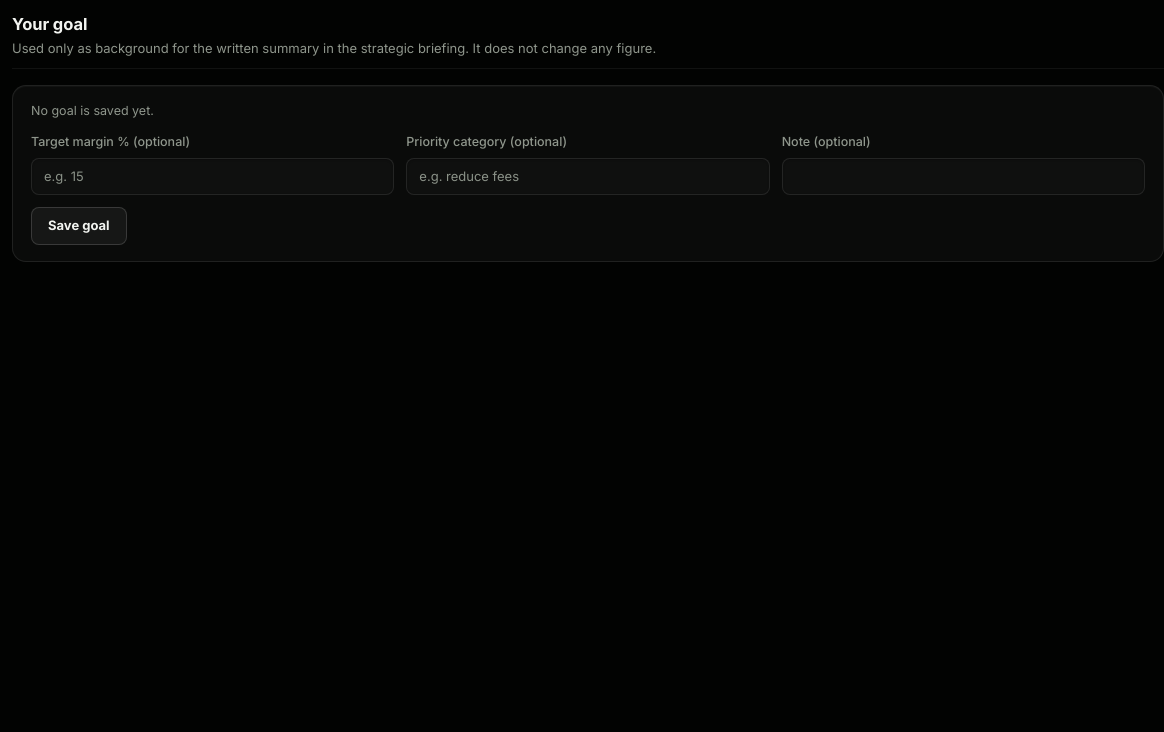
Seller goal › saves, then confirms by reading it back from the server
The width and height of the screenshot is (1164, 732).
Check: the text "No goal is saved yet." is shown, box [31,103,154,118]
Type "15.5" into the field labelled "Target margin % (optional)".
click(213, 177); type("15.5")  # box [31,158,394,195]
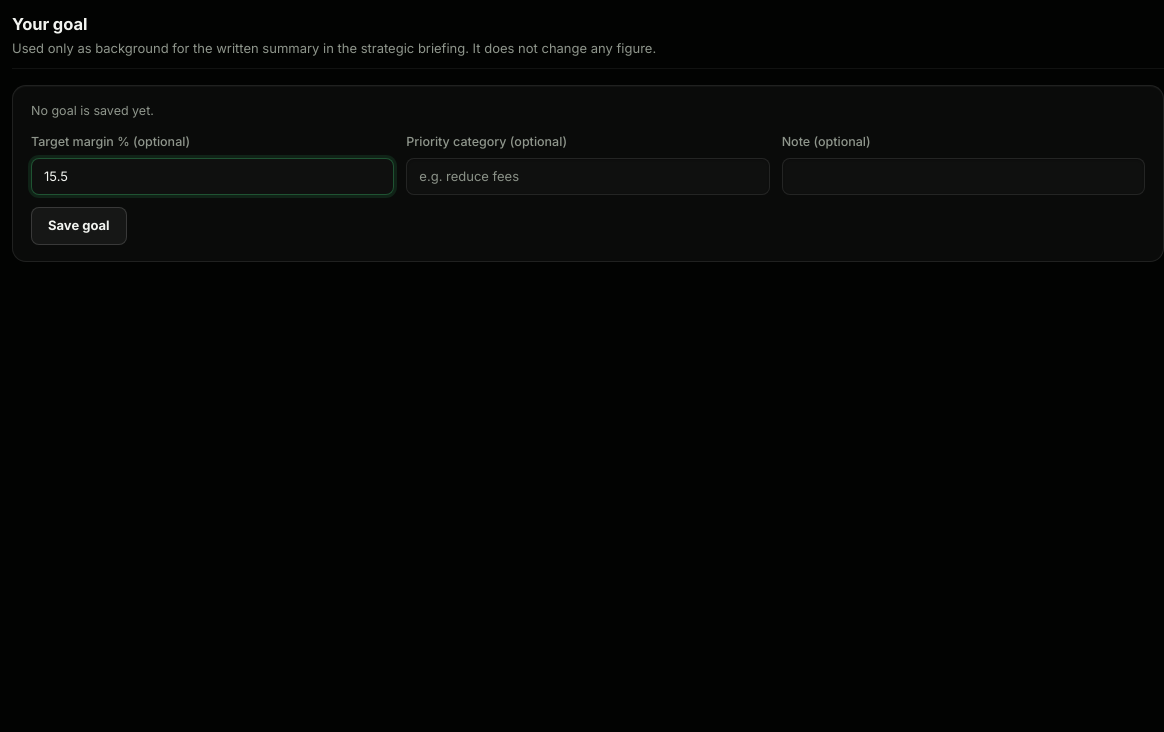
Click the button "Save goal".
click(79, 226)  # box [31,207,127,245]
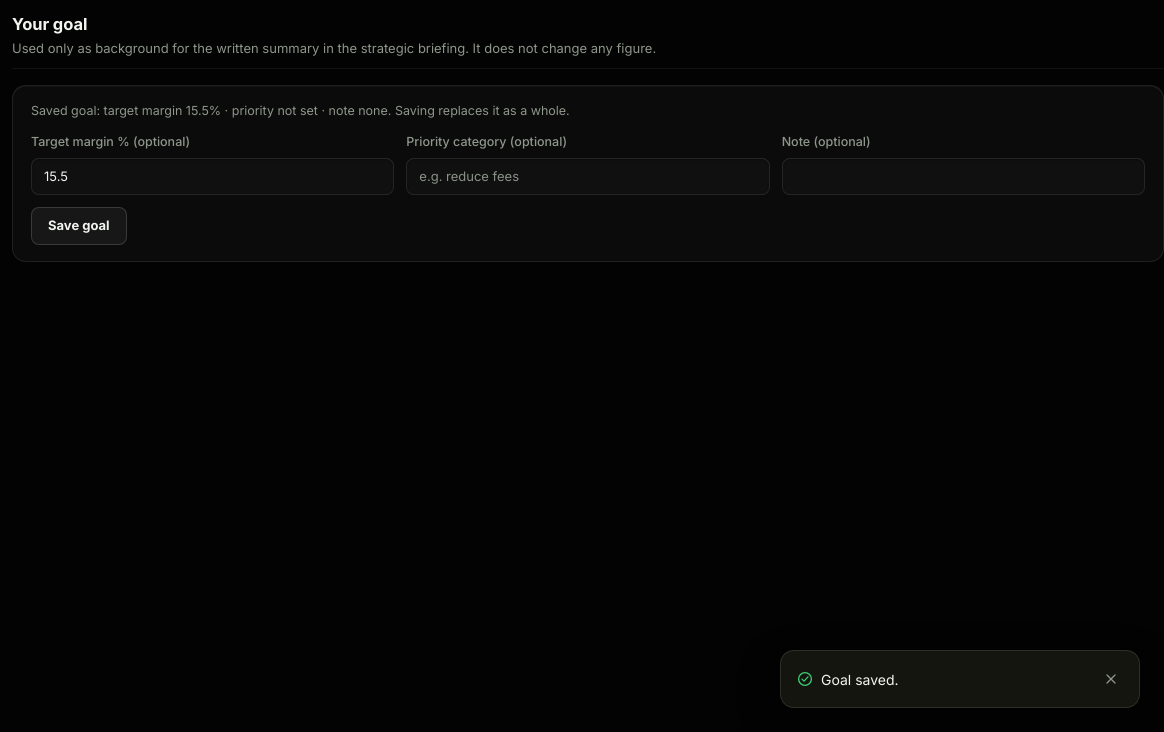
Check: the text with test id "current-goal" shows "target margin 15.5%", box [31,103,570,118]
Check: the message reads "Goal saved.", box [821,670,899,688]
